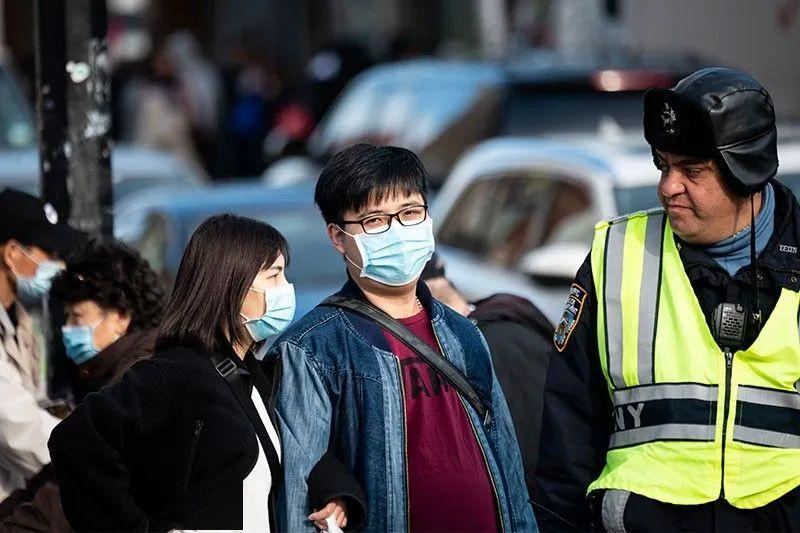mask: (340, 166, 441, 294), (225, 237, 303, 347)
no_mask: (646, 132, 735, 249)
